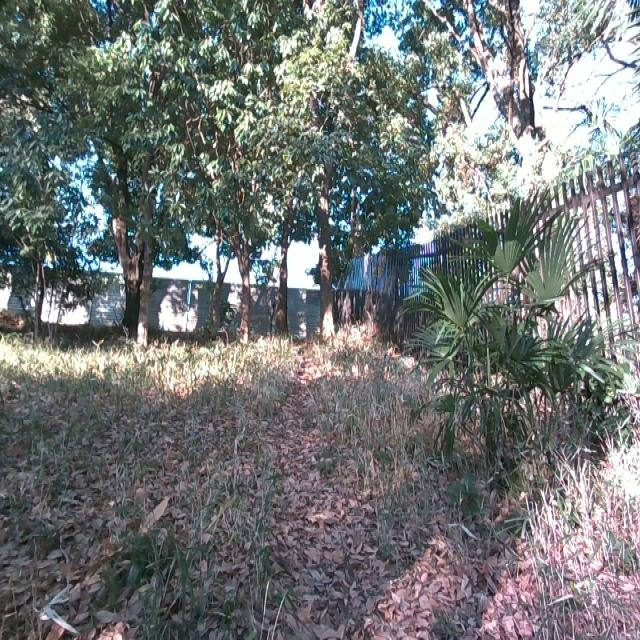bush: (404, 190, 624, 492)
tree: (86, 25, 176, 347), (0, 10, 58, 344), (292, 86, 358, 345), (216, 155, 262, 351), (268, 188, 298, 352)
